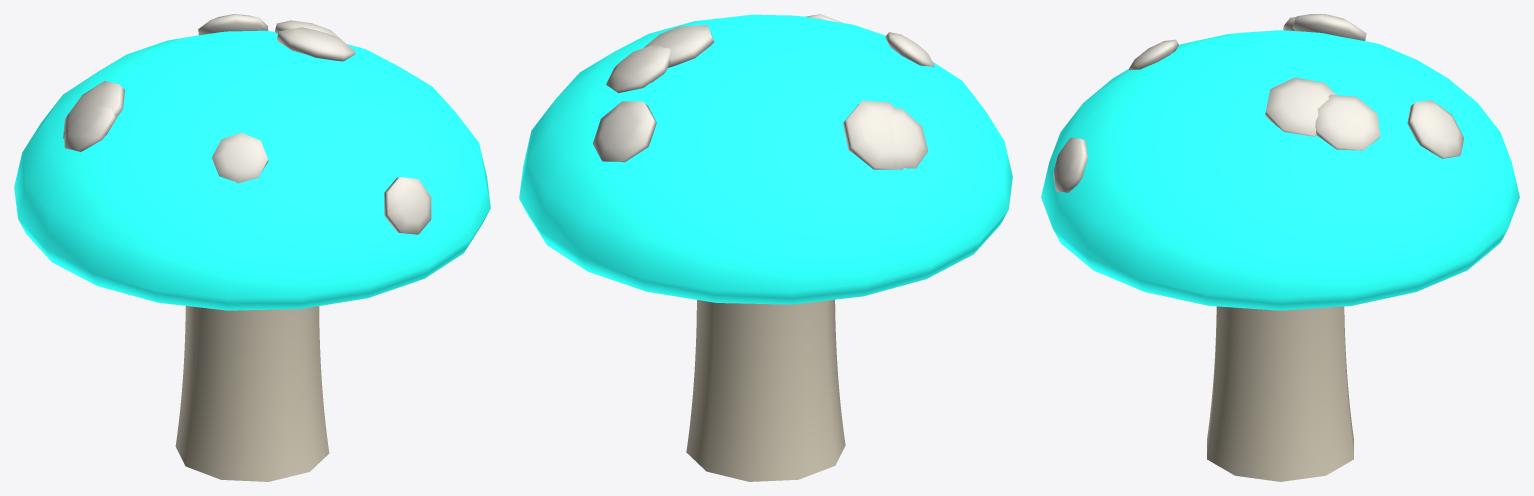
File: Glowcap.fbx
3 renders of one model, left to right at view 1: azimuth 30°, elevation 25°; view 2: azimuth 150°, elevation 25°; view 3: azimuth 270°, elevation 25°, orthographic. The views are drawn at different scales.
Parts seen in each view (by area): view 1: Handle, Stem, Spot.003, Spot.006, Spot.005, Spot.001, Spot, Spot.002; view 2: Handle, Stem, Spot, Spot.002, Spot.004, Spot.005, Spot.001, Spot.006; view 3: Handle, Stem, Spot.004, Spot.005, Spot.002, Spot.003, Spot, Spot.006.
Boxes of the visible parts, x1,y1,x2,y2 form: Handle: [14, 30, 490, 310]; Stem: [175, 306, 329, 481]; Spot.003: [384, 177, 431, 234]; Spot.006: [212, 132, 268, 183]; Spot.005: [276, 27, 355, 61]; Spot.001: [64, 103, 116, 151]; Spot: [63, 81, 124, 138]; Spot.002: [198, 14, 268, 35]; Handle: [519, 14, 1012, 304]; Stem: [686, 299, 845, 481]; Spot: [843, 100, 904, 169]; Spot.002: [593, 101, 656, 162]; Spot.004: [606, 44, 670, 93]; Spot.005: [644, 25, 714, 67]; Spot.001: [889, 108, 927, 168]; Spot.006: [885, 32, 934, 67]; Handle: [1041, 30, 1519, 310]; Stem: [1207, 306, 1353, 481]; Spot.004: [1315, 94, 1380, 150]; Spot.005: [1265, 77, 1335, 136]; Spot.002: [1407, 100, 1463, 158]; Spot.003: [1053, 137, 1087, 192]; Spot: [1292, 14, 1366, 40]; Spot.006: [1128, 39, 1178, 70].
Size of the model in its own units: 1.24 by 1.13 by 1.24.
